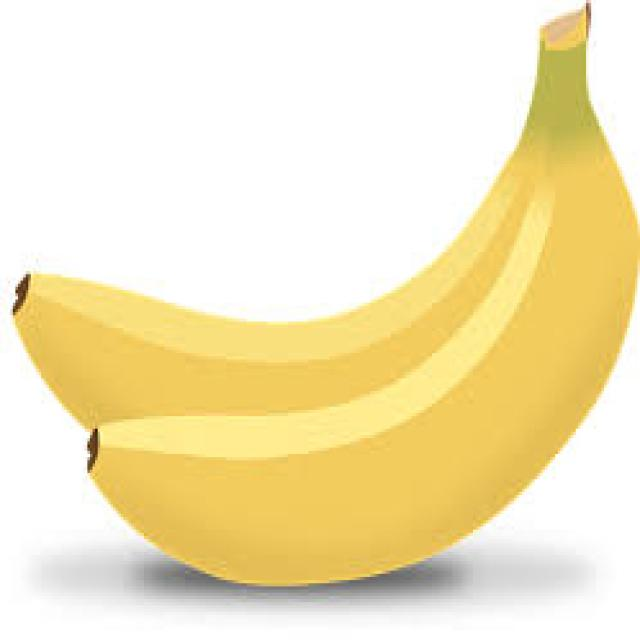banana: (10, 0, 637, 586)
